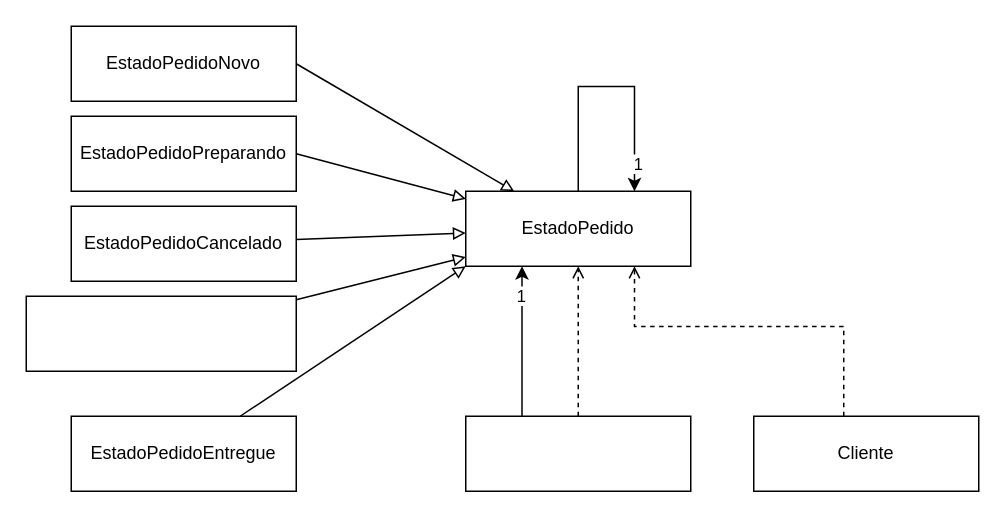
The diagram is 1005 pixels wide and 518 high, and some of its shapes have lost their labels. The centre of each missing label's shape, as x and y in pixels:
EstadoPedidoSaiuParaEntrega: (x=160, y=333)
Pedido: (x=577, y=453)
